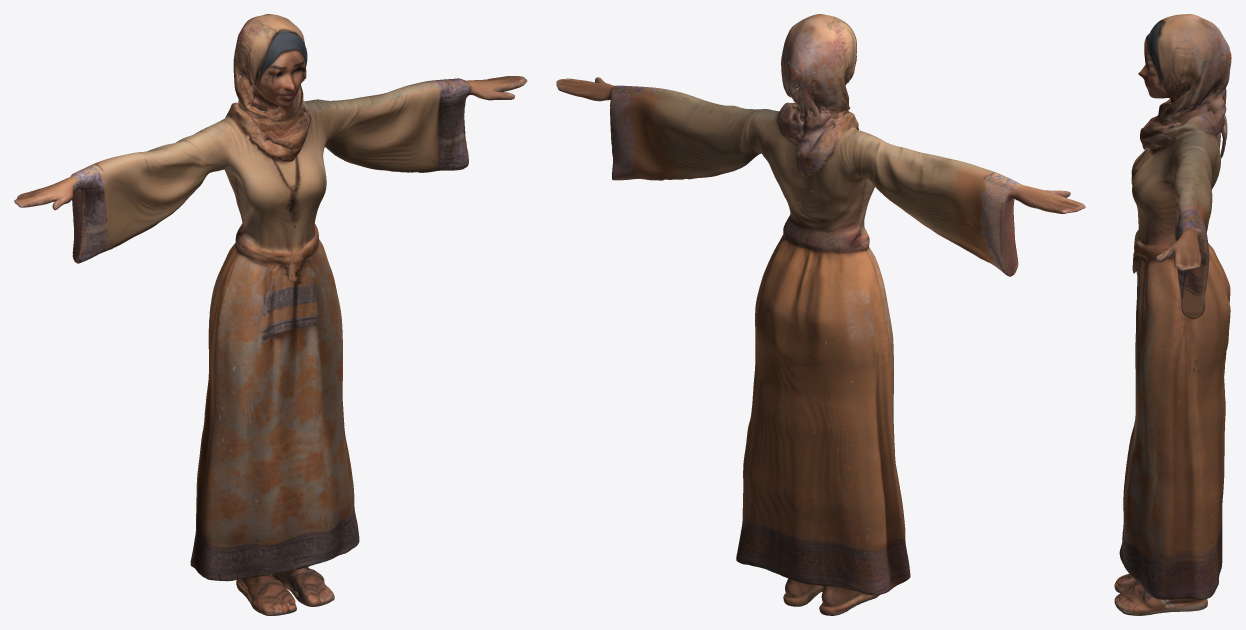
Rendered from A_3D_model_of_an_Indo_0902060648_texture.fbx.
3 views of the same model, side by side, from view 1: azimuth 30°, elevation 25°; view 2: azimuth 150°, elevation 25°; view 3: azimuth 270°, elevation 25° (orthographic). The views are drawn at different scales.
Parts seen in each view (by area): view 1: Mesh1.0; view 2: Mesh1.0; view 3: Mesh1.0.
Part boxes in pixels (x1=…): Mesh1.0: x1=14, y1=14, x2=527, y2=615; Mesh1.0: x1=556, y1=14, x2=1085, y2=615; Mesh1.0: x1=1114, y1=14, x2=1231, y2=615.
Bounding box in the file's own units: 187 × 200 × 36.45.
1 material, 1 textured.
